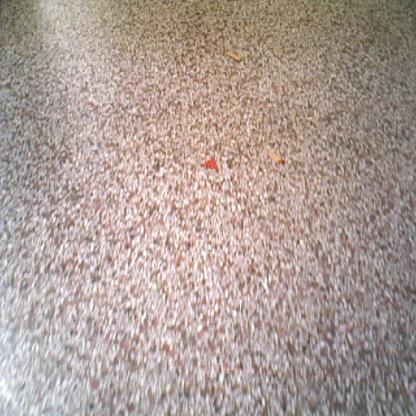dirty: (267, 149, 285, 166), (199, 157, 219, 171), (223, 48, 243, 62)
